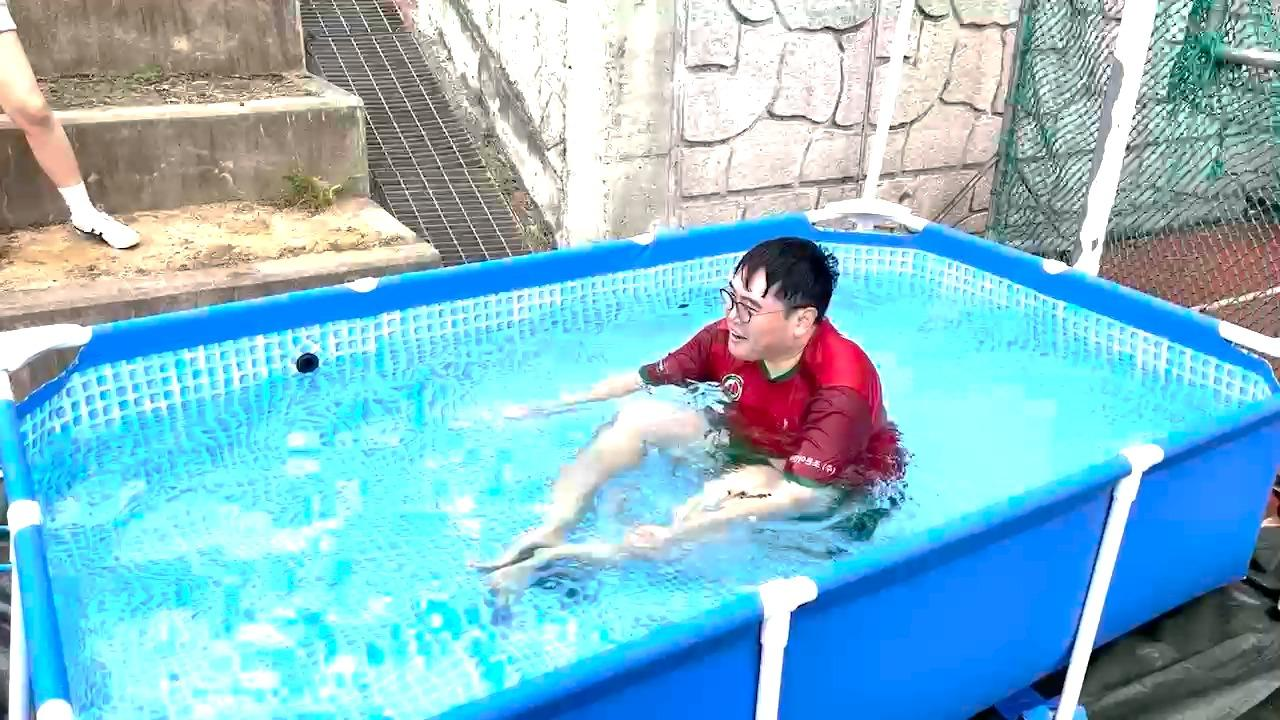Swimming: (411, 202, 945, 616)
